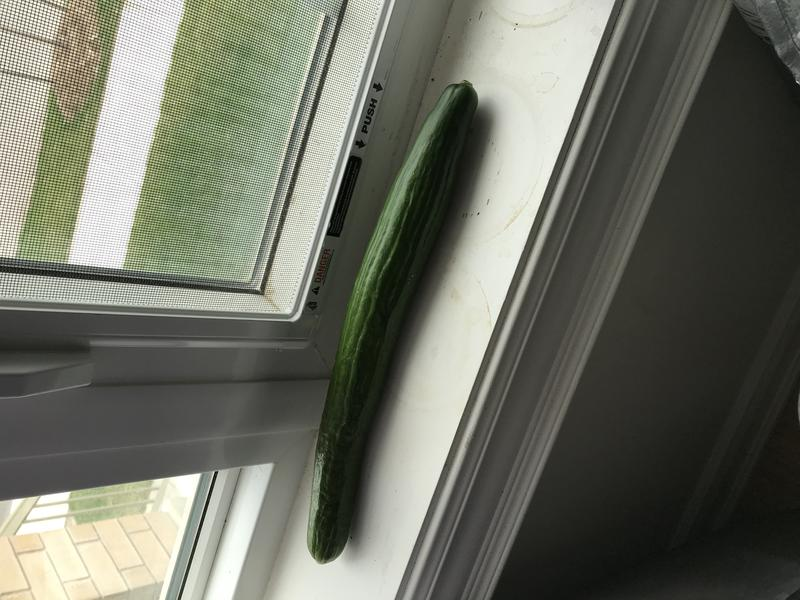cucumber: (300, 70, 483, 573)
